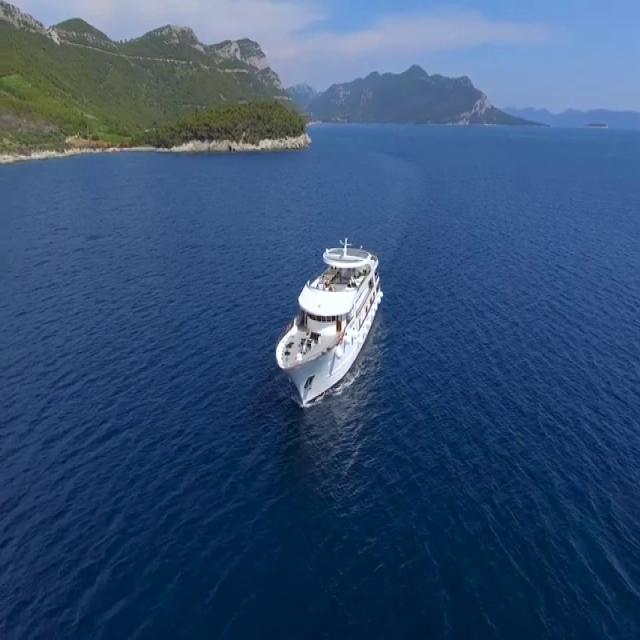passenger ship: (266, 234, 382, 405)
